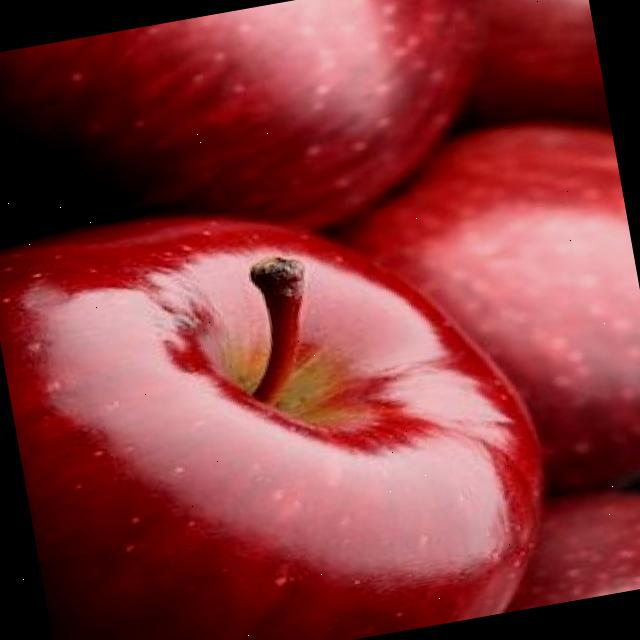apple: (0, 153, 563, 640)
